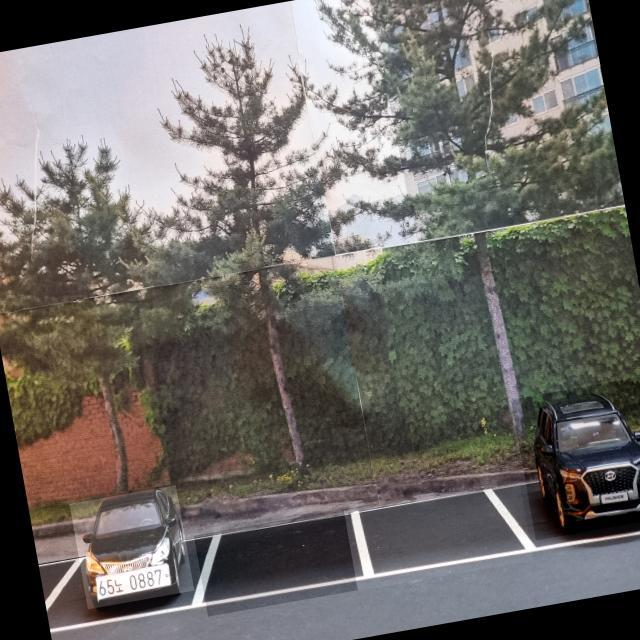empty: (343, 479, 533, 591), (194, 506, 373, 616)
occupied: (511, 375, 640, 539), (70, 484, 194, 608)
